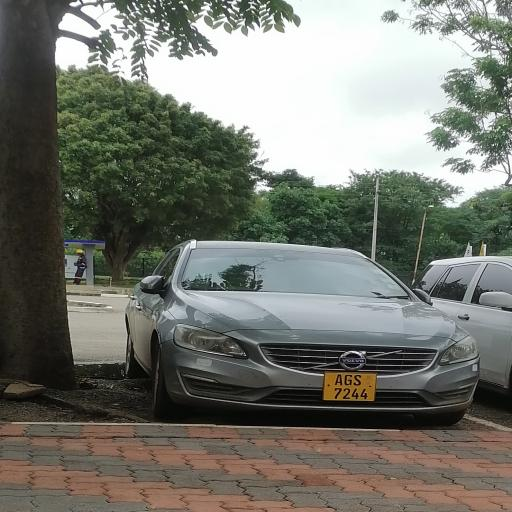number-plates: (325, 366, 381, 405)
